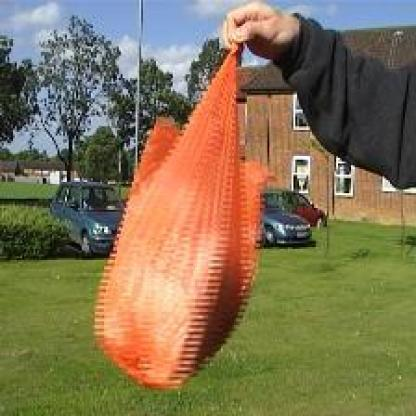other: (95, 36, 254, 394)
